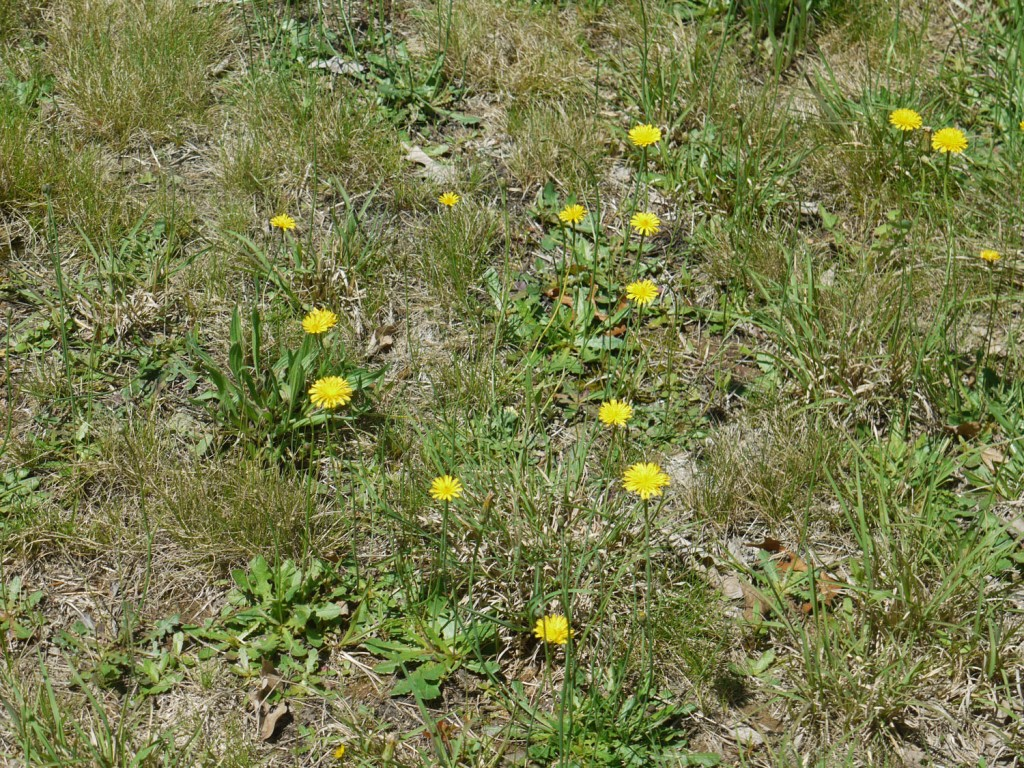dandelion: (308, 370, 354, 419), (621, 115, 677, 154), (535, 602, 575, 650), (620, 465, 672, 500), (626, 204, 676, 239), (935, 123, 971, 165), (881, 104, 924, 139), (605, 396, 637, 434), (296, 313, 345, 336), (433, 474, 465, 502), (269, 208, 299, 229), (432, 189, 470, 205), (565, 204, 581, 223)
